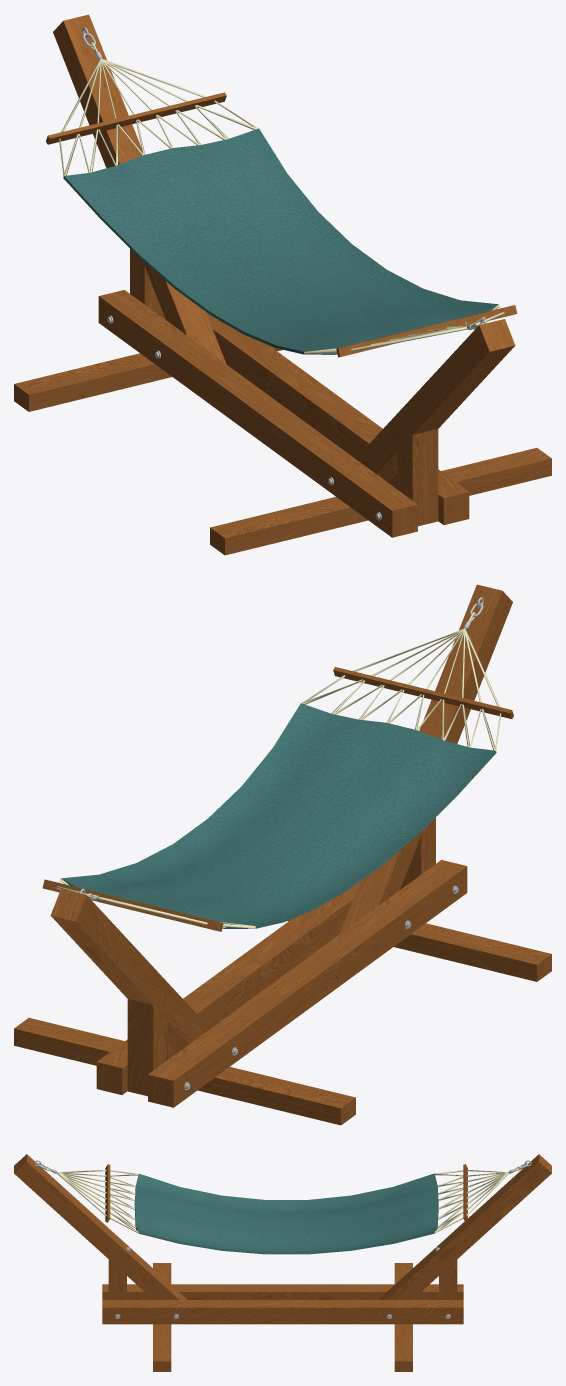
Rendered from camp_hammock.gltf.
3 views of the same model, one above another, from view 1: azimuth 30°, elevation 25°; view 2: azimuth 150°, elevation 25°; view 3: azimuth 270°, elevation 25° (orthographic). The views are drawn at different scales.
Parts seen in each view (by area): view 1: Material-material; view 2: Material-material; view 3: Material-material.
Part boxes in pixels (x1,y1,x2,y2): Material-material: (14,14,551,555); Material-material: (14,584,551,1125); Material-material: (14,1154,551,1371).
Bounding box in the file's own units: 1.36 × 1.07 × 3.15.
Materials: 1 (1 with a texture image).
